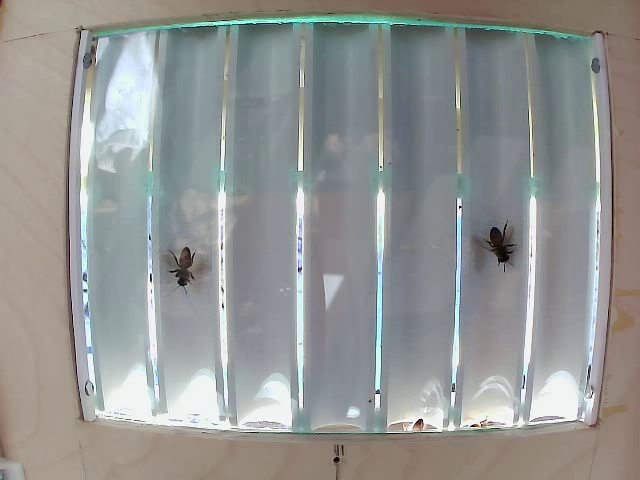bee: (479, 211, 515, 267), (167, 242, 199, 289)
